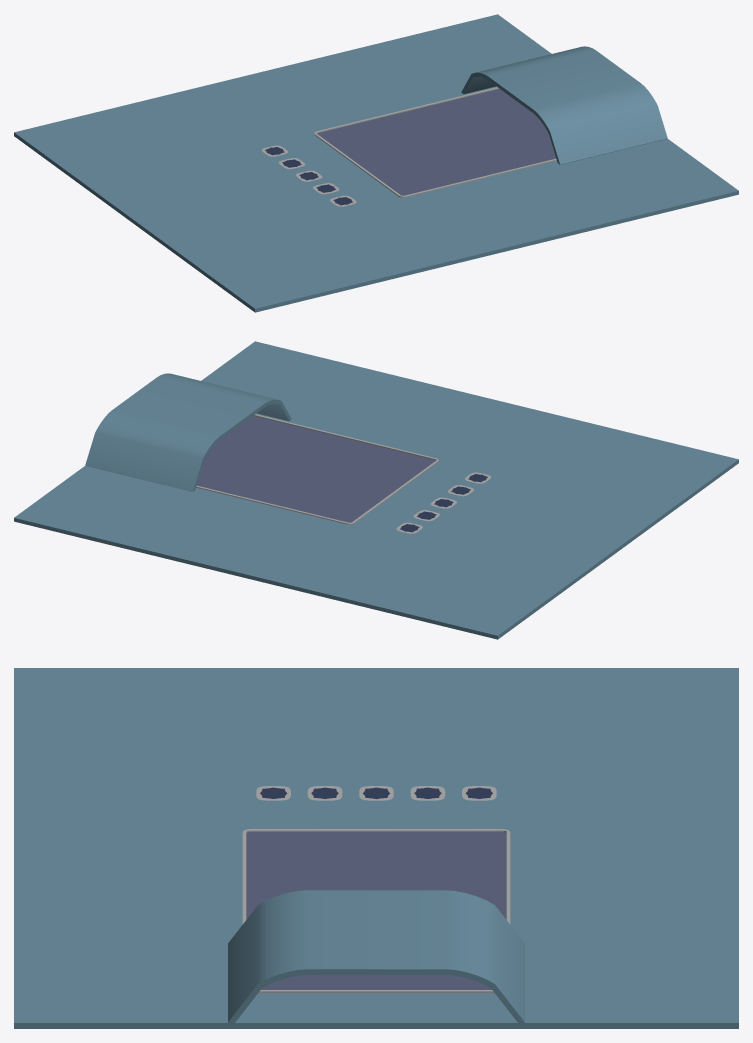
The model's file is PlatformBlast 1.fbx.
3 renders of one model, top to bottom at view 1: azimuth 30°, elevation 25°; view 2: azimuth 150°, elevation 25°; view 3: azimuth 270°, elevation 25°, orthographic. The views are drawn at different scales.
Parts seen in each view (by area): view 1: Plane.001, Plane.002; view 2: Plane.001, Plane.002; view 3: Plane.001, Plane.002.
Part boxes in pixels (x1,y1,x2,y2): Plane.001: (14, 14, 738, 312); Plane.002: (314, 87, 556, 197); Plane.001: (14, 341, 738, 639); Plane.002: (196, 414, 438, 524); Plane.001: (14, 668, 738, 1028); Plane.002: (242, 829, 510, 992).
Bounding box in the file's own units: 53.3 × 4.18 × 46.01.
